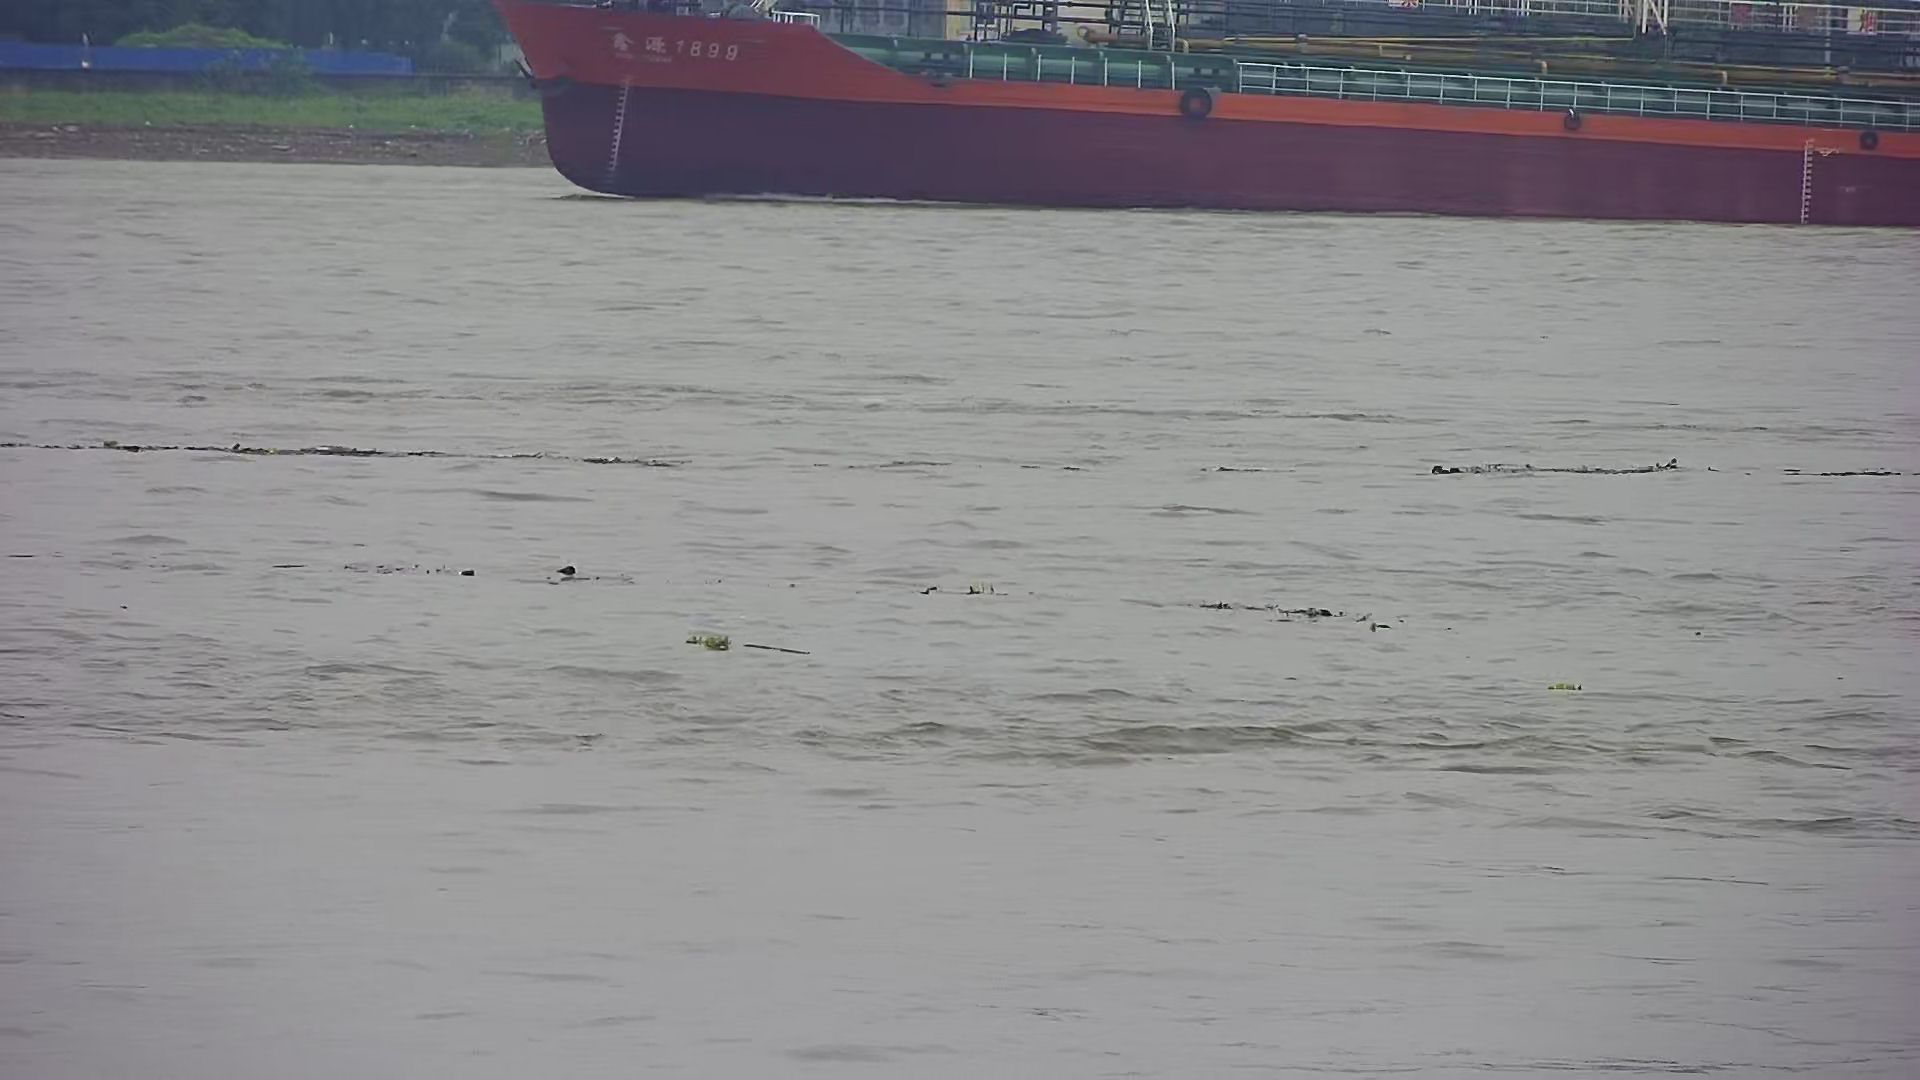ship: (479, 3, 1920, 248)
